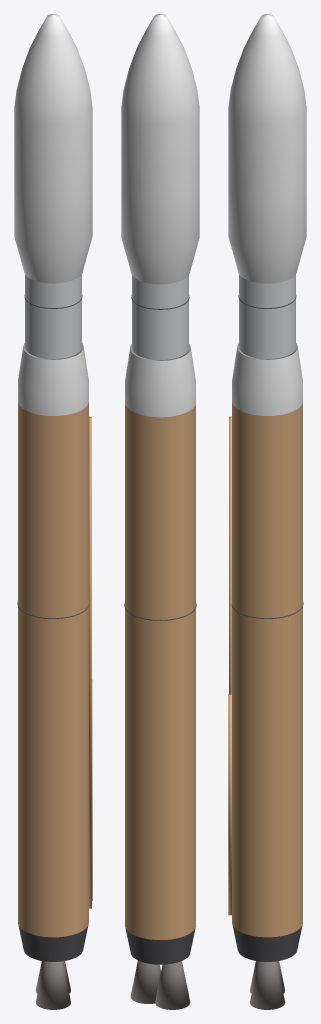
The model's file is AtlasV_Body.fbx.
3 renders of one model, left to right at view 1: azimuth 90°, elevation 25°; view 2: azimuth 150°, elevation 25°; view 3: azimuth 270°, elevation 25°, orthographic.
Parts seen in each view (by area): view 1: Booster__Atlas_CCBInsulation, Fairing_A__Atlas_White, Centaur__Atlas_White, Centaur__Atlas_CentaurSteel, Booster__Atlas_White, Booster__Atlas_Dark, Booster__Atlas_Engine; view 2: Booster__Atlas_CCBInsulation, Fairing_A__Atlas_White, Centaur__Atlas_White, Centaur__Atlas_CentaurSteel, Booster__Atlas_White, Fairing_B__Atlas_White, Booster__Atlas_Engine, Booster__Atlas_Dark; view 3: Booster__Atlas_CCBInsulation, Fairing_B__Atlas_White, Centaur__Atlas_White, Centaur__Atlas_CentaurSteel, Booster__Atlas_White, Booster__Atlas_Dark, Booster__Atlas_Engine.
Boxes of the visible parts, <box> form: Booster__Atlas_CCBInsulation: <box>18,402,92,937</box>; Fairing_A__Atlas_White: <box>14,14,92,201</box>; Centaur__Atlas_White: <box>14,186,92,283</box>; Centaur__Atlas_CentaurSteel: <box>25,274,81,359</box>; Booster__Atlas_White: <box>18,343,88,415</box>; Booster__Atlas_Dark: <box>17,601,88,961</box>; Booster__Atlas_Engine: <box>35,961,70,1009</box>; Booster__Atlas_CCBInsulation: <box>125,404,195,939</box>; Fairing_A__Atlas_White: <box>141,14,199,202</box>; Centaur__Atlas_White: <box>121,187,199,284</box>; Centaur__Atlas_CentaurSteel: <box>132,275,188,360</box>; Booster__Atlas_White: <box>125,344,195,417</box>; Fairing_B__Atlas_White: <box>121,14,162,199</box>; Booster__Atlas_Engine: <box>130,960,190,1009</box>; Booster__Atlas_Dark: <box>124,603,196,964</box>; Booster__Atlas_CCBInsulation: <box>228,402,302,937</box>; Fairing_B__Atlas_White: <box>228,14,306,201</box>; Centaur__Atlas_White: <box>228,186,306,283</box>; Centaur__Atlas_CentaurSteel: <box>239,274,295,359</box>; Booster__Atlas_White: <box>232,343,302,415</box>; Booster__Atlas_Dark: <box>232,601,303,961</box>; Booster__Atlas_Engine: <box>250,961,285,1009</box>.
Bounding box in the file's own units: 4.2 × 58.2 × 4.2.
